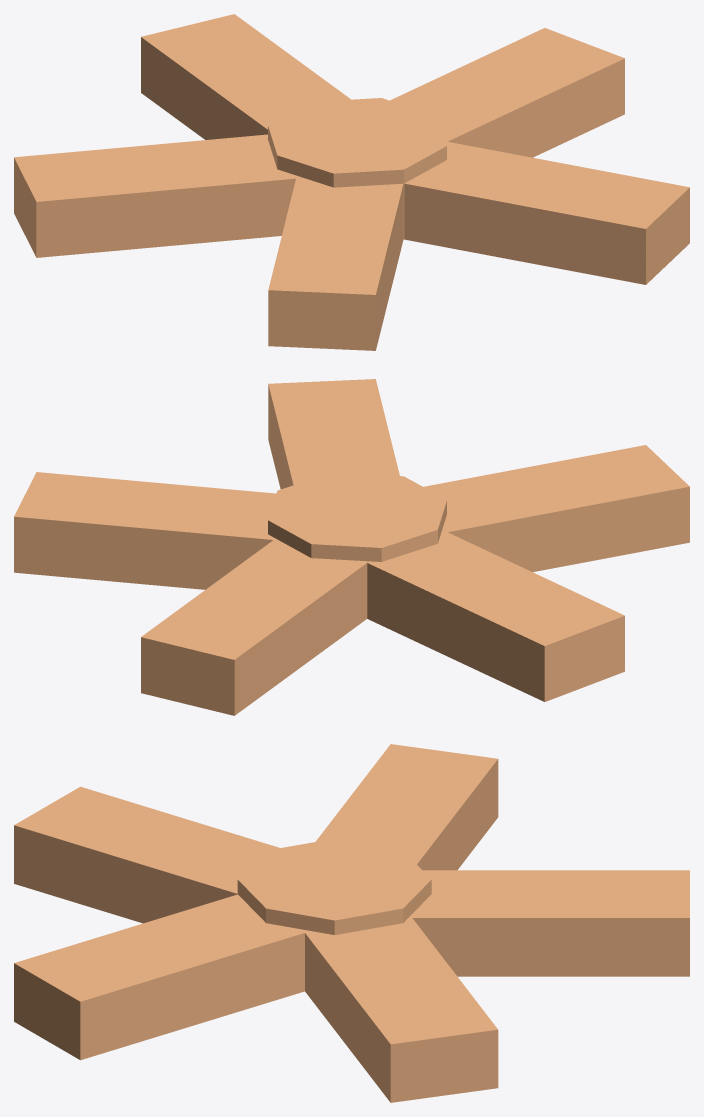
Rendered from Starfish.fbx.
The picture shows the model from 3 angles, top to bottom: view 1: azimuth 30°, elevation 25°; view 2: azimuth 150°, elevation 25°; view 3: azimuth 270°, elevation 25°; orthographic projection. The views are drawn at different scales.
Parts seen in each view (by area): view 1: Body; view 2: Body; view 3: Body.
Part boxes in pixels (bbox=[...]): Body: bbox=[14, 14, 689, 350]; Body: bbox=[14, 379, 689, 715]; Body: bbox=[14, 744, 689, 1102].
Bounding box in the file's own units: 0.4401 × 0.05 × 0.4186.
